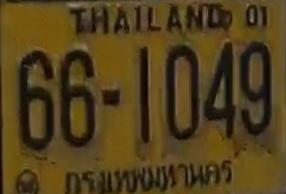0: (164, 43, 198, 140)
1: (138, 46, 148, 142)
4: (204, 42, 234, 138)
6: (17, 50, 53, 150), (59, 49, 95, 147)
9: (239, 41, 271, 135)
BKK: (63, 157, 236, 194)
